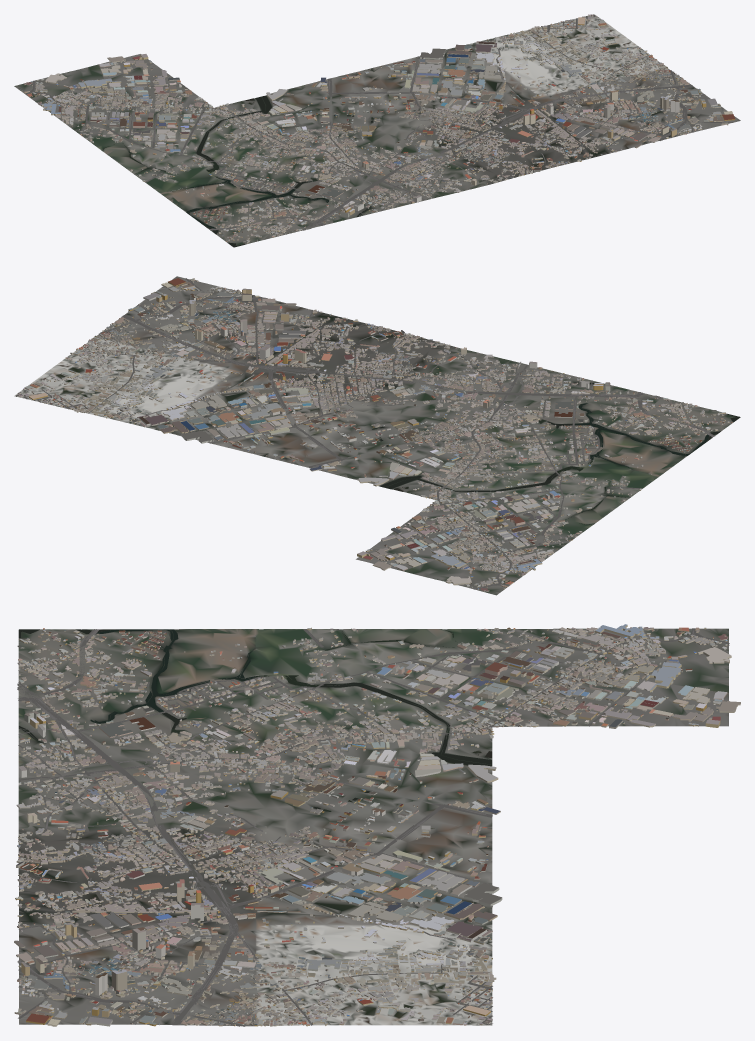
3 views of the same model, one above another, from view 1: azimuth 30°, elevation 25°; view 2: azimuth 150°, elevation 25°; view 3: azimuth 270°, elevation 25° (orthographic). The views are drawn at different scales.
Parts seen in each view (by area): view 1: ground, buildings, roads, water; view 2: ground, buildings, roads, water; view 3: ground, buildings, roads, water.
Boxes of the visible parts, left/top/right/bottom form: ground: left=14, top=14, right=740, bottom=247; buildings: left=21, top=14, right=735, bottom=243; roads: left=24, top=15, right=733, bottom=236; water: left=103, top=88, right=373, bottom=247; ground: left=14, top=276, right=736, bottom=595; buildings: left=17, top=278, right=732, bottom=591; roads: left=16, top=278, right=714, bottom=589; water: left=312, top=382, right=740, bottom=524; ground: left=18, top=628, right=728, bottom=1026; buildings: left=14, top=624, right=740, bottom=1026; roads: left=17, top=628, right=729, bottom=1026; water: left=19, top=629, right=491, bottom=828.
Size of the model in its own units: 5662 by 150 by 4300.
